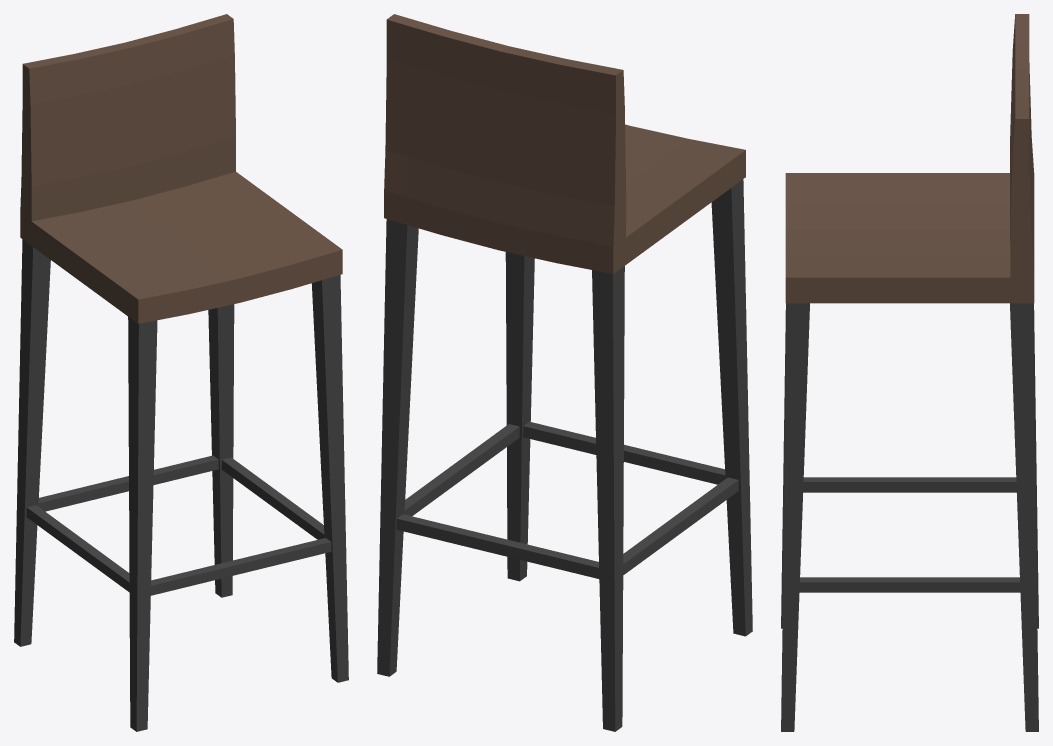
The model's file is Chair_02_C3.fbx.
The picture shows the model from 3 angles, left to right: view 1: azimuth 30°, elevation 25°; view 2: azimuth 150°, elevation 25°; view 3: azimuth 270°, elevation 25°; orthographic projection. The views are drawn at different scales.
Visible parts, largest first — view 1: Chair_02_C3; view 2: Chair_02_C3; view 3: Chair_02_C3.
Boxes of the visible parts, x1=… form: Chair_02_C3: x1=14, y1=14, x2=348, y2=731; Chair_02_C3: x1=377, y1=14, x2=752, y2=731; Chair_02_C3: x1=781, y1=14, x2=1038, y2=731.
Size of the model in its own units: 33.75 by 88.23 by 33.75.
